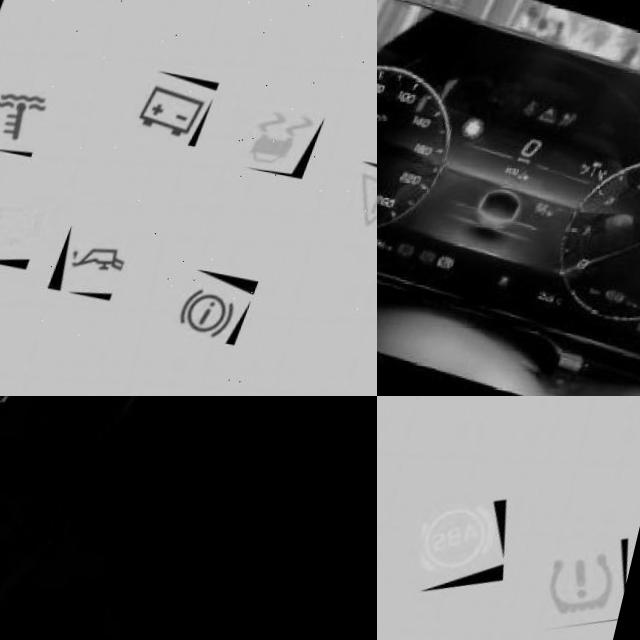Seat Belt: (528, 97, 551, 119)
